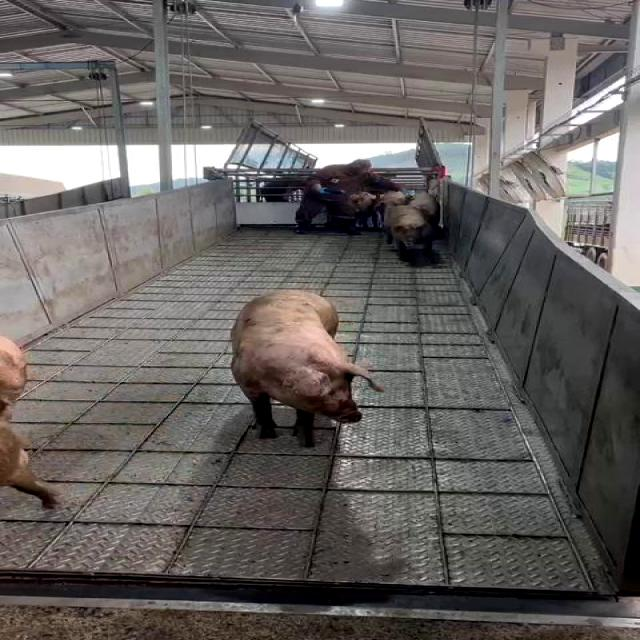pig: (232, 291, 381, 445), (386, 206, 437, 259)
